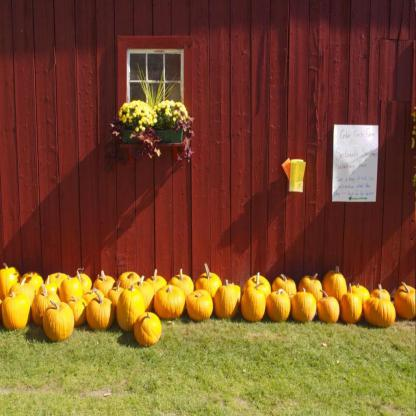Pumpkin: (0, 261, 416, 345), (357, 289, 399, 326)
